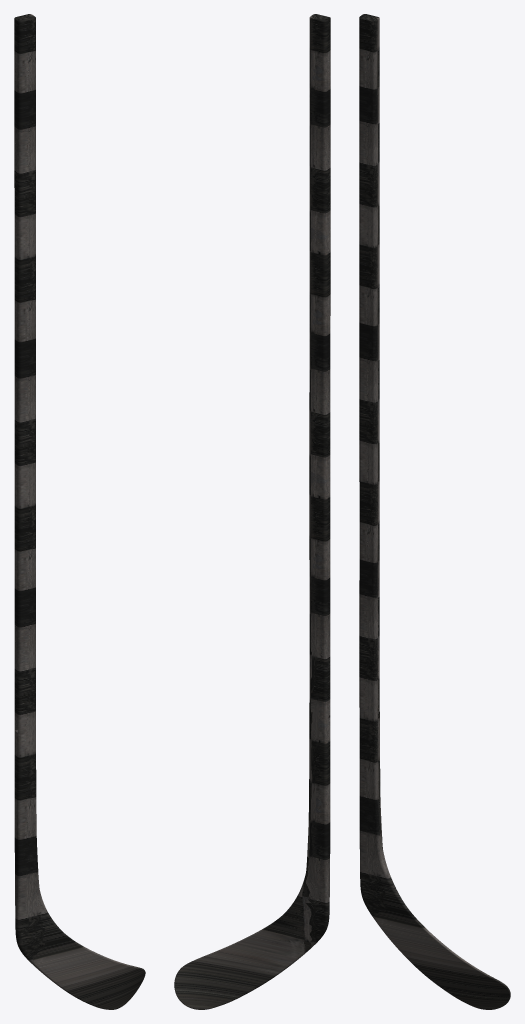
3 renders of one model, left to right at view 1: azimuth 30°, elevation 25°; view 2: azimuth 150°, elevation 25°; view 3: azimuth 330°, elevation 25°, orthographic. The views are drawn at different scales.
Parts seen in each view (by area): view 1: geometry_0; view 2: geometry_0; view 3: geometry_0.
Boxes of the visible parts, left/top/right/bottom form: geometry_0: left=14, top=14, right=145, bottom=1009; geometry_0: left=174, top=14, right=330, bottom=1009; geometry_0: left=359, top=14, right=510, bottom=1009.
Size of the model in its own units: 240 by 1650 by 60.2.
1 material, 1 textured.
